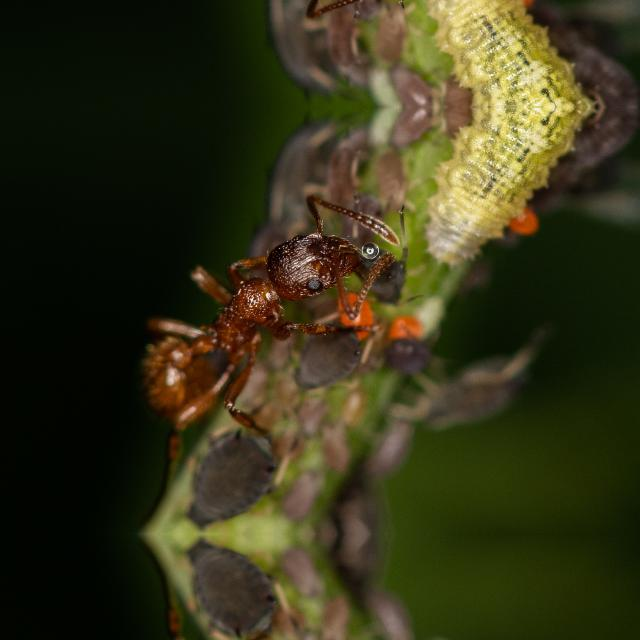Myrmica: (103, 182, 424, 460)
